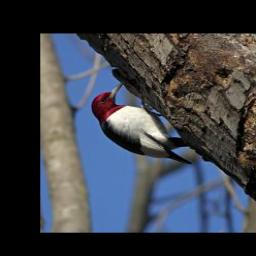Woodpecker: (85, 79, 199, 165)
